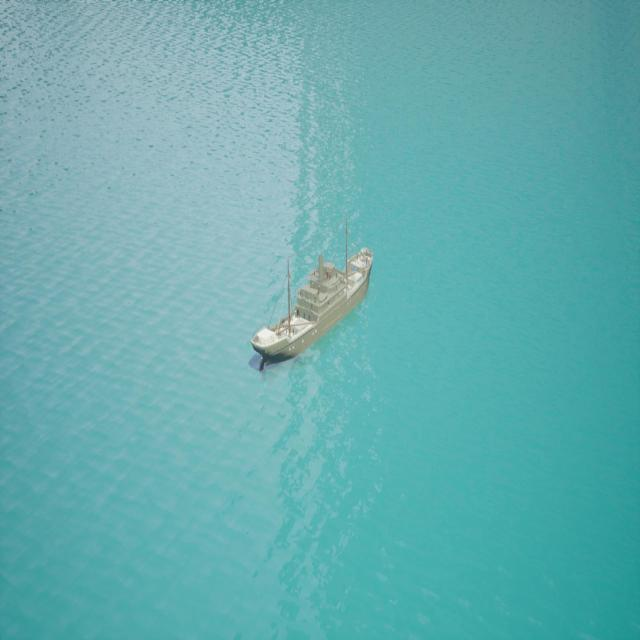fishing ship: (250, 252, 373, 370)
